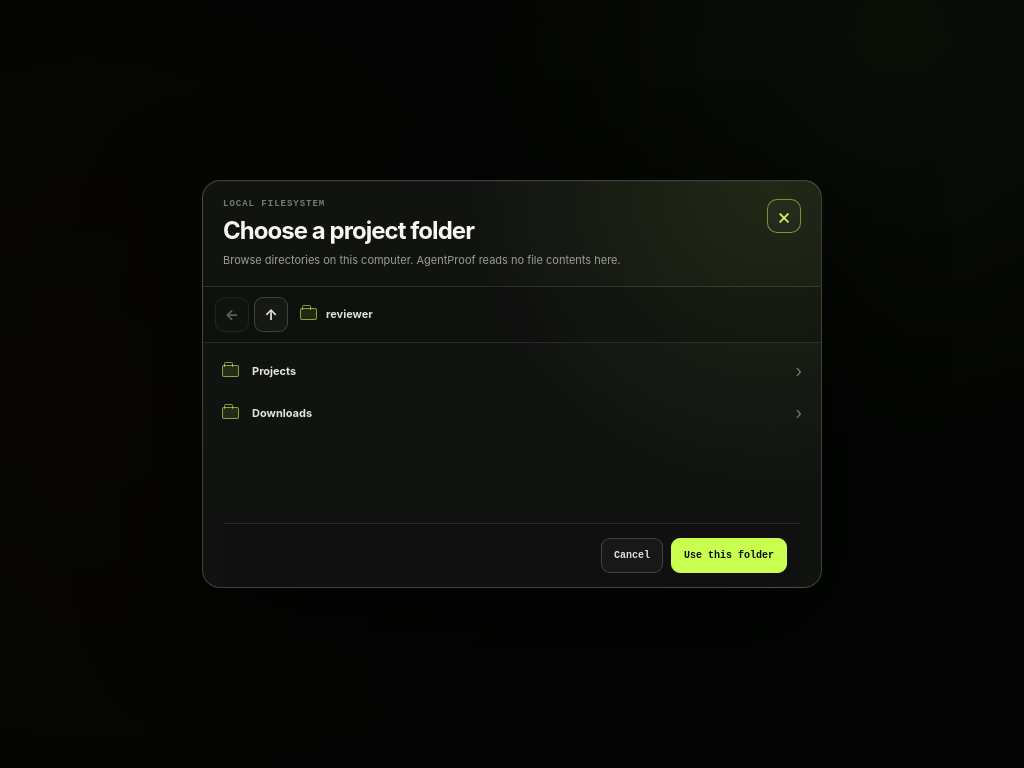
Test: DirectoryPicker › returns to the previously viewed folder when navigating back
The image size is (1024, 768).
Check: the text "reviewer" is shown, box [326,307,373,321]
Check: the button named "Go back one folder" is disabled, box [215,296,249,332]
Click the button with aria-label "Open folder Projects" at (274, 371), box [211,350,813,390]
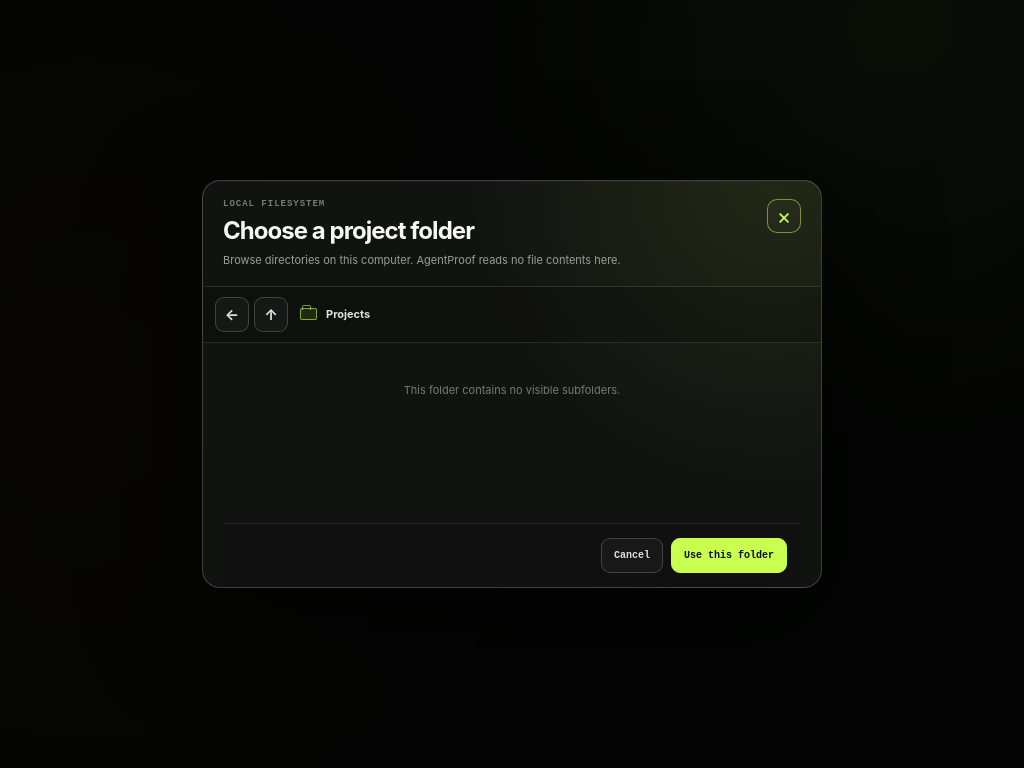
Check: the text "Projects" is shown, box [326,307,370,321]
Click the button named "Go back one folder" at (232, 314), box [215,296,249,332]
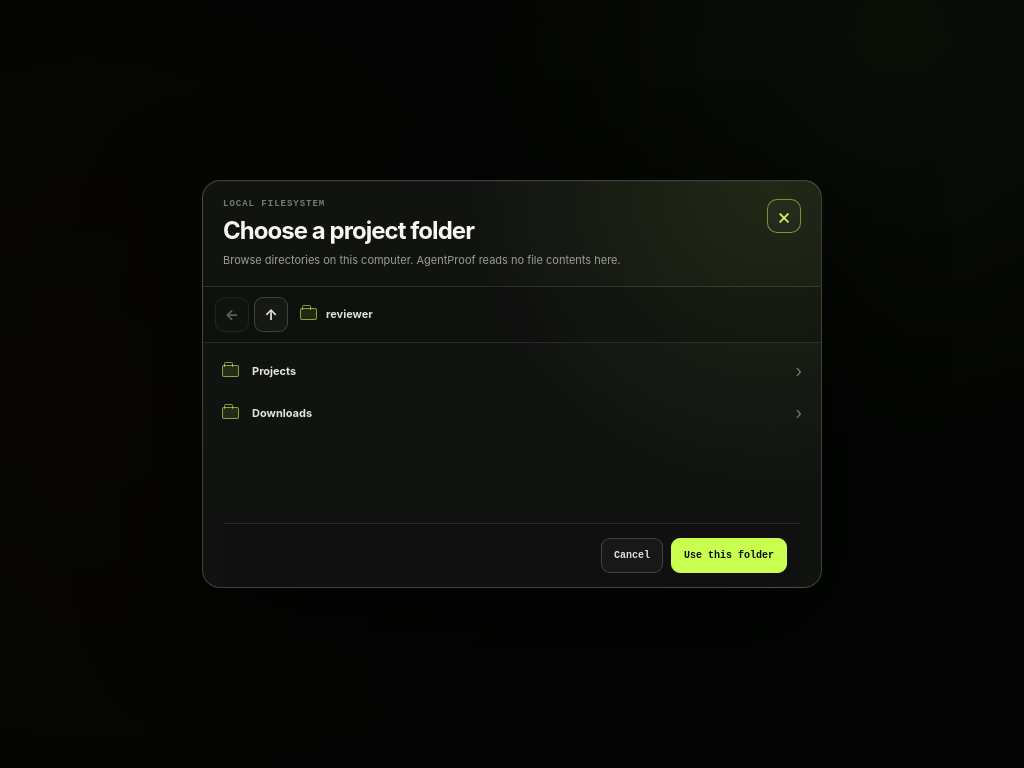
Check: the text "reviewer" is shown, box [326,307,373,321]
